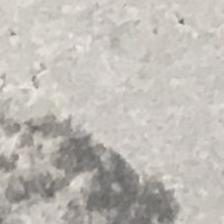Non_Crack: (9, 17, 220, 209)
